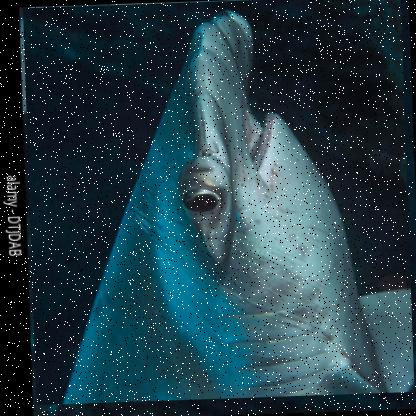hammerhead_Shark: (21, 0, 415, 406)
